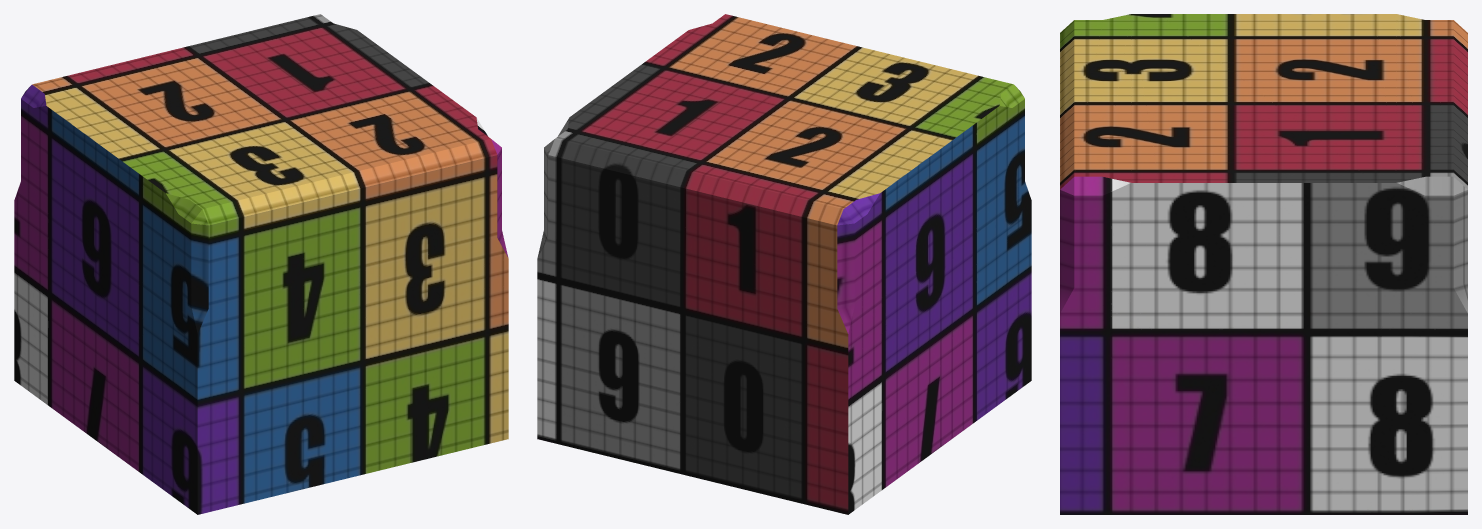
Rendered from pudlo2.fbx.
3 views of the same model, side by side, from view 1: azimuth 30°, elevation 25°; view 2: azimuth 150°, elevation 25°; view 3: azimuth 270°, elevation 25° (orthographic). The views are drawn at different scales.
Parts seen in each view (by area): view 1: pCube652; view 2: pCube652; view 3: pCube652.
Boxes of the visible parts, x1,y1,x2,y2 form: pCube652: (14,14,508,514); pCube652: (537,14,1031,514); pCube652: (1060,14,1467,514).
Size of the model in its own units: 44.73 by 41.04 by 45.68.
